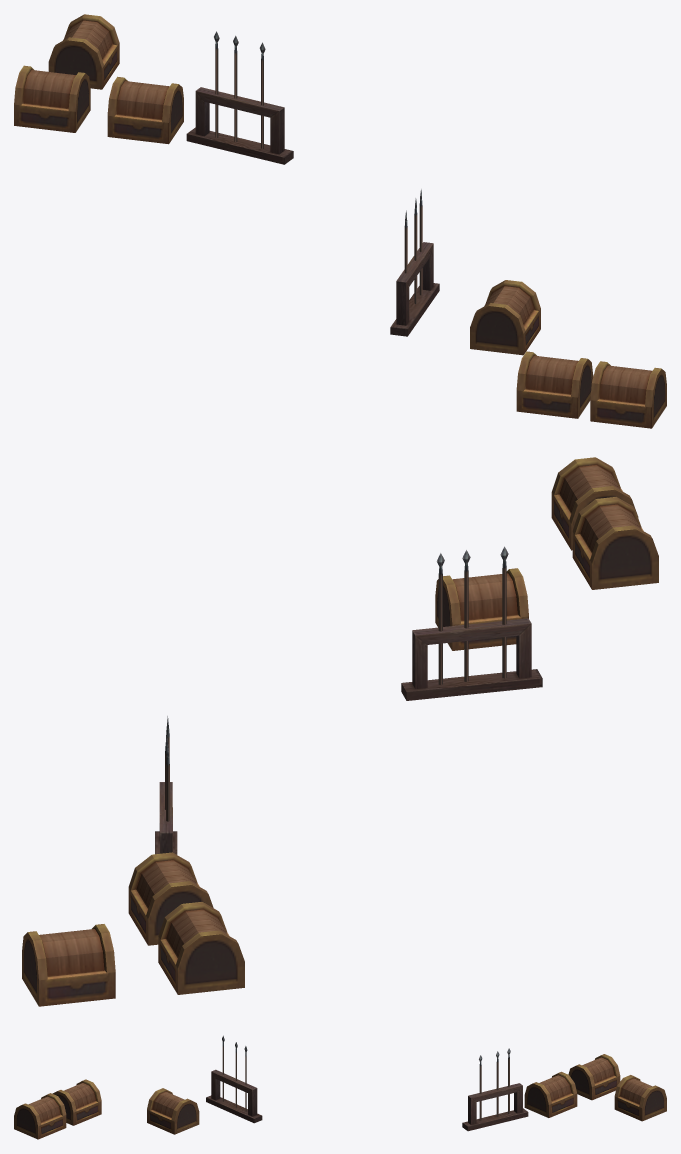
The model's file is Area_01_5.fbx.
3 views of the same model, one above another, from view 1: azimuth 30°, elevation 25°; view 2: azimuth 150°, elevation 25°; view 3: azimuth 270°, elevation 25° (orthographic). The views are drawn at different scales.
Parts seen in each view (by area): view 1: Area_01_5; view 2: Area_01_5; view 3: Area_01_5.
Boxes of the visible parts, x1,y1,x2,y2 form: Area_01_5: (14, 14, 666, 428); Area_01_5: (22, 457, 658, 1006); Area_01_5: (14, 1035, 666, 1139).
Bounding box in the file's own units: 578 × 311 × 2603.
